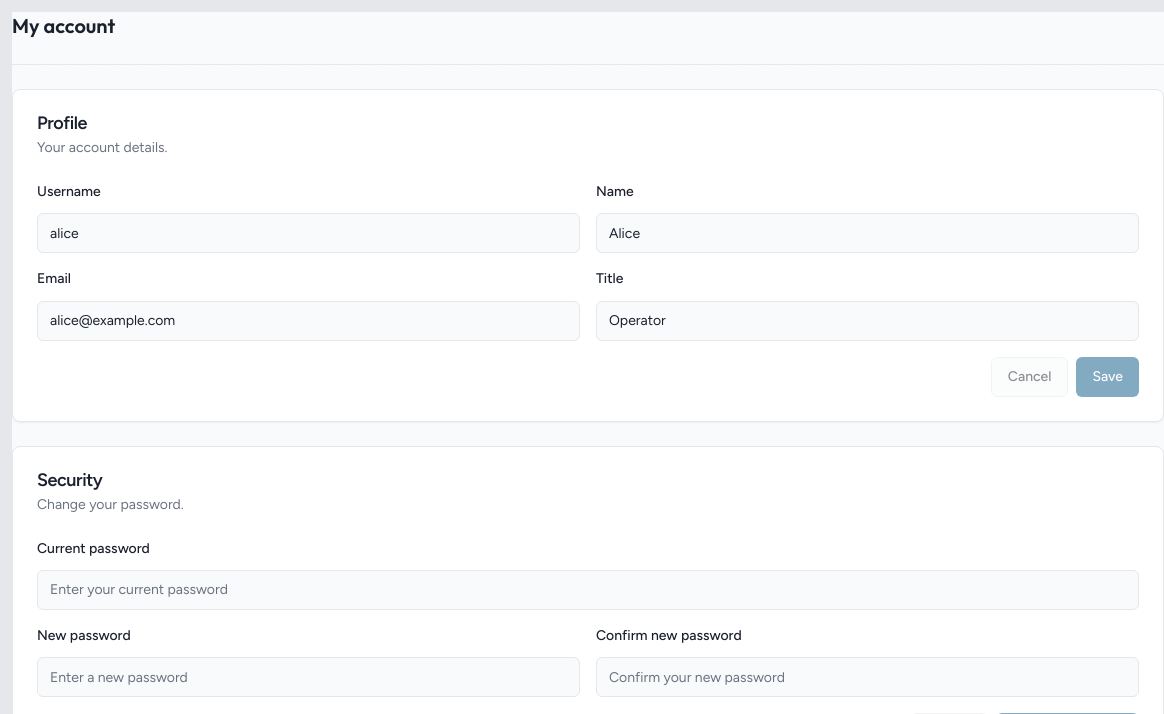
SettingsPage › resets the profile form when cancel is clicked
Replace the text in the field labelled "Name" with "Changed" at (868, 233), box [596,213,1139,253]
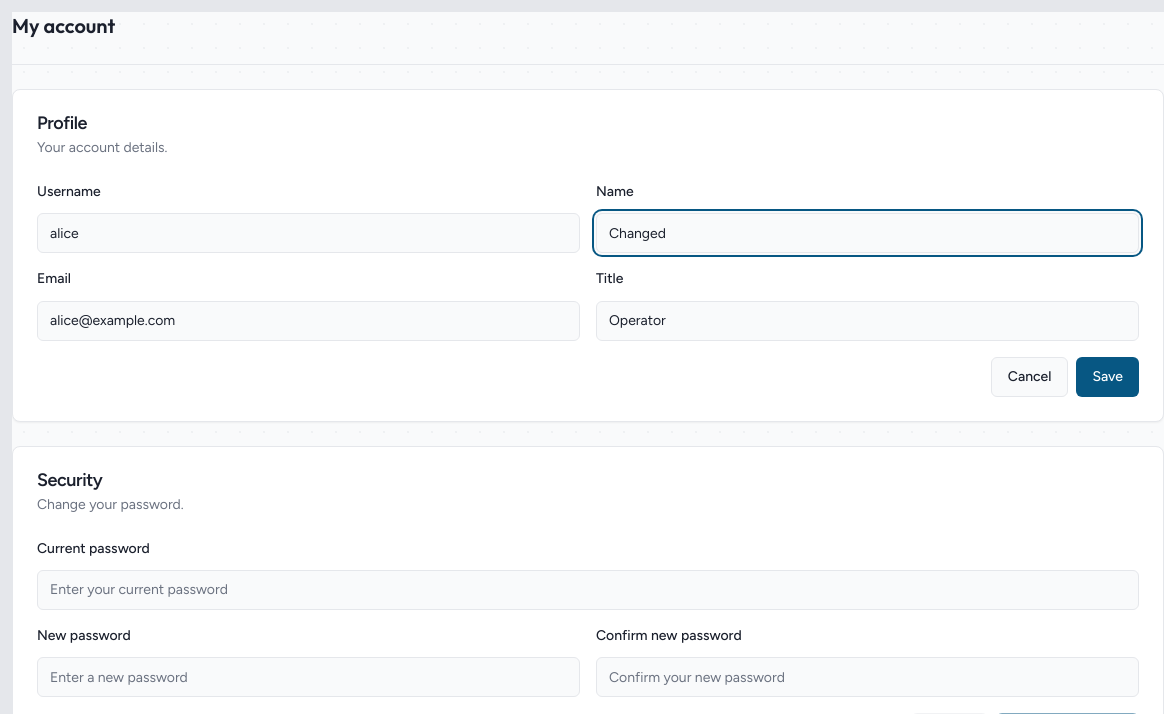
Click the 1st button "Cancel" at (1030, 376), box [991,356,1068,396]
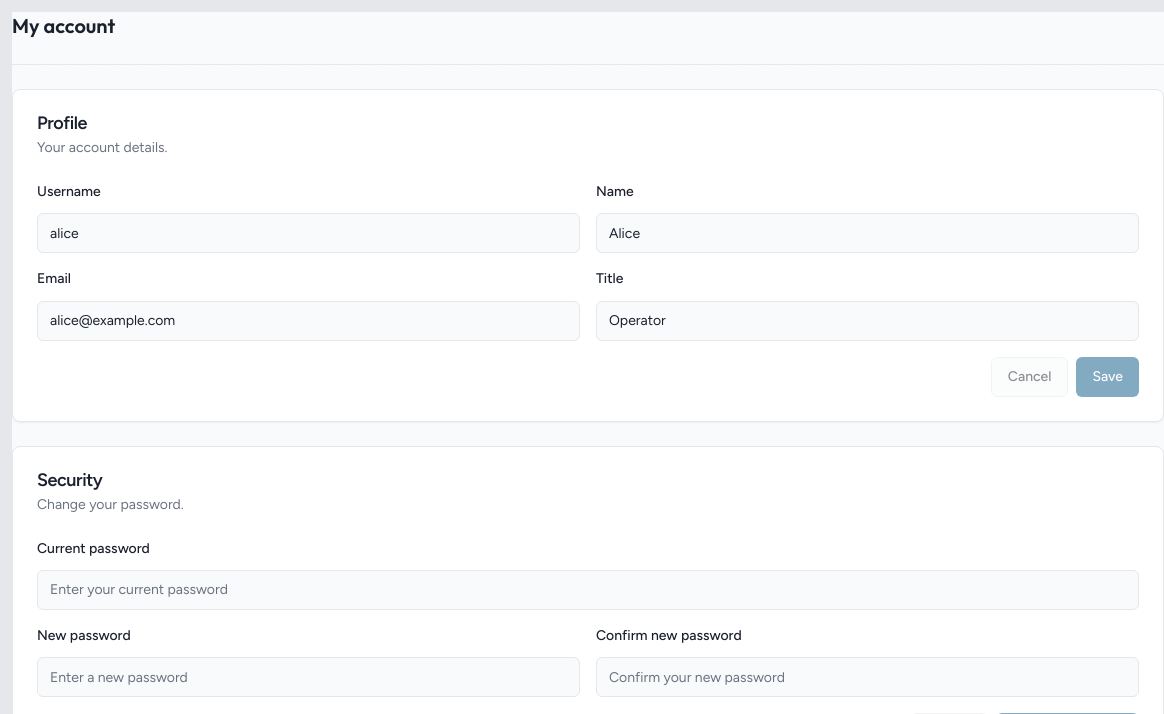
Expected: the field labelled "Name" holds "Alice", [596,213,1139,253]
Expected: the button "Save" is disabled, [1076,356,1139,396]
